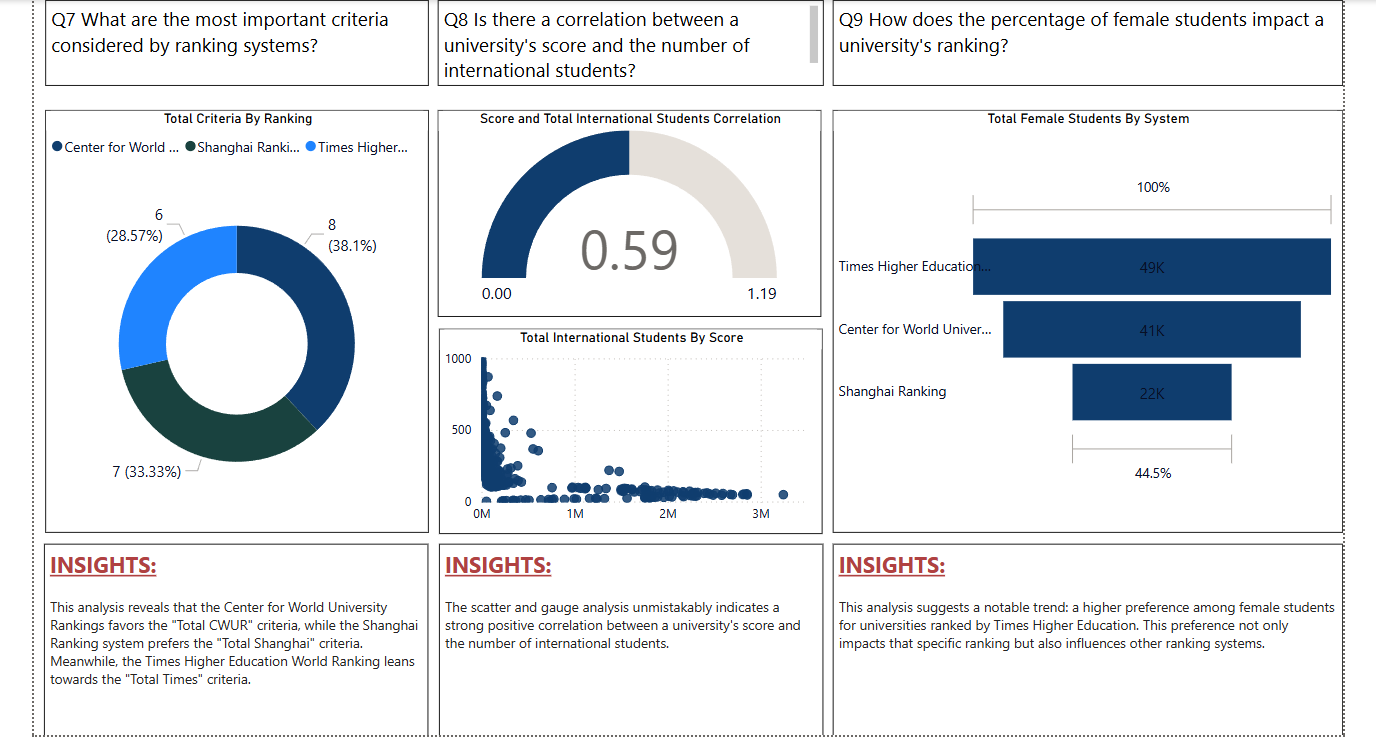

What the dashboard file says about the page in this screenshot:
{"tool":"powerbi","page":{"name":"Que 7,8,9","canvas":[1280,720],"ordinal":6},"visuals":[{"type":"textbox","box":[10.5,0,375.6,83.7],"z":0},{"type":"donutChart","title":" Total Criteria By Ranking","fields":{"Category":["ranking_system.system_name"],"Y":["CountNonNull(ranking_criteria.criteria_name)"]},"box":[10.5,108.1,375.6,414],"z":1000},{"type":"textbox","box":[10,532,376,188],"z":2000},{"type":"scatterChart","title":"Total International Students By Score","fields":{"X":["Sum(university_year.Total_Int_Student)"],"Y":["university_ranking_year.score"]},"box":[395.8,321.7,375.6,200.4],"z":3000},{"type":"textbox","box":[396,532,376,188],"z":4000},{"type":"textbox","box":[395.3,0,377.9,83.7],"z":5000},{"type":"textbox","box":[781,532,499,188],"z":6000},{"type":"textbox","box":[781.4,0,498.8,83.7],"z":7000},{"type":"funnel","title":"Total Female Students By System","fields":{"Category":["ranking_system.system_name"],"Y":["Sum(university_year.pct_female_students)"]},"box":[781.4,108.1,498.8,414],"z":8000},{"type":"gauge","title":"Score and Total International Students Correlation","fields":{"Y":["country.score and Total_Int_Student correlation for year"]},"box":[395.3,108.1,375.6,202.3],"z":9000}]}

Visuals, with their boxes on the page's 1280x720 design canvas (x1, y1, x2, y2). These are canvas units, not pixel positions in the 1376x737 screenshot, which may show the page scaled, cropped or inside an application window:
textbox: {"x1": 10, "y1": 0, "x2": 386, "y2": 84}
" Total Criteria By Ranking" donutChart: {"x1": 10, "y1": 108, "x2": 386, "y2": 522}
textbox: {"x1": 10, "y1": 532, "x2": 386, "y2": 720}
"Total International Students By Score" scatterChart: {"x1": 396, "y1": 322, "x2": 771, "y2": 522}
textbox: {"x1": 396, "y1": 532, "x2": 772, "y2": 720}
textbox: {"x1": 395, "y1": 0, "x2": 773, "y2": 84}
textbox: {"x1": 781, "y1": 532, "x2": 1280, "y2": 720}
textbox: {"x1": 781, "y1": 0, "x2": 1280, "y2": 84}
"Total Female Students By System" funnel: {"x1": 781, "y1": 108, "x2": 1280, "y2": 522}
"Score and Total International Students Correlation" gauge: {"x1": 395, "y1": 108, "x2": 771, "y2": 310}
